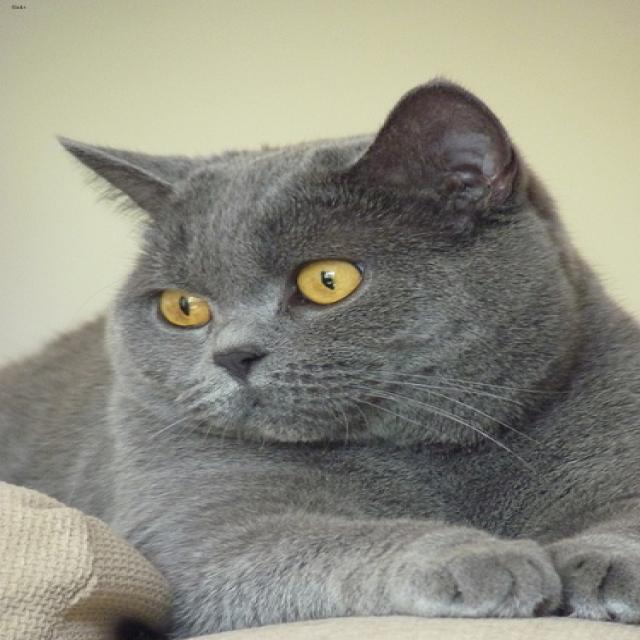British_Shorthair: (43, 75, 595, 453)
